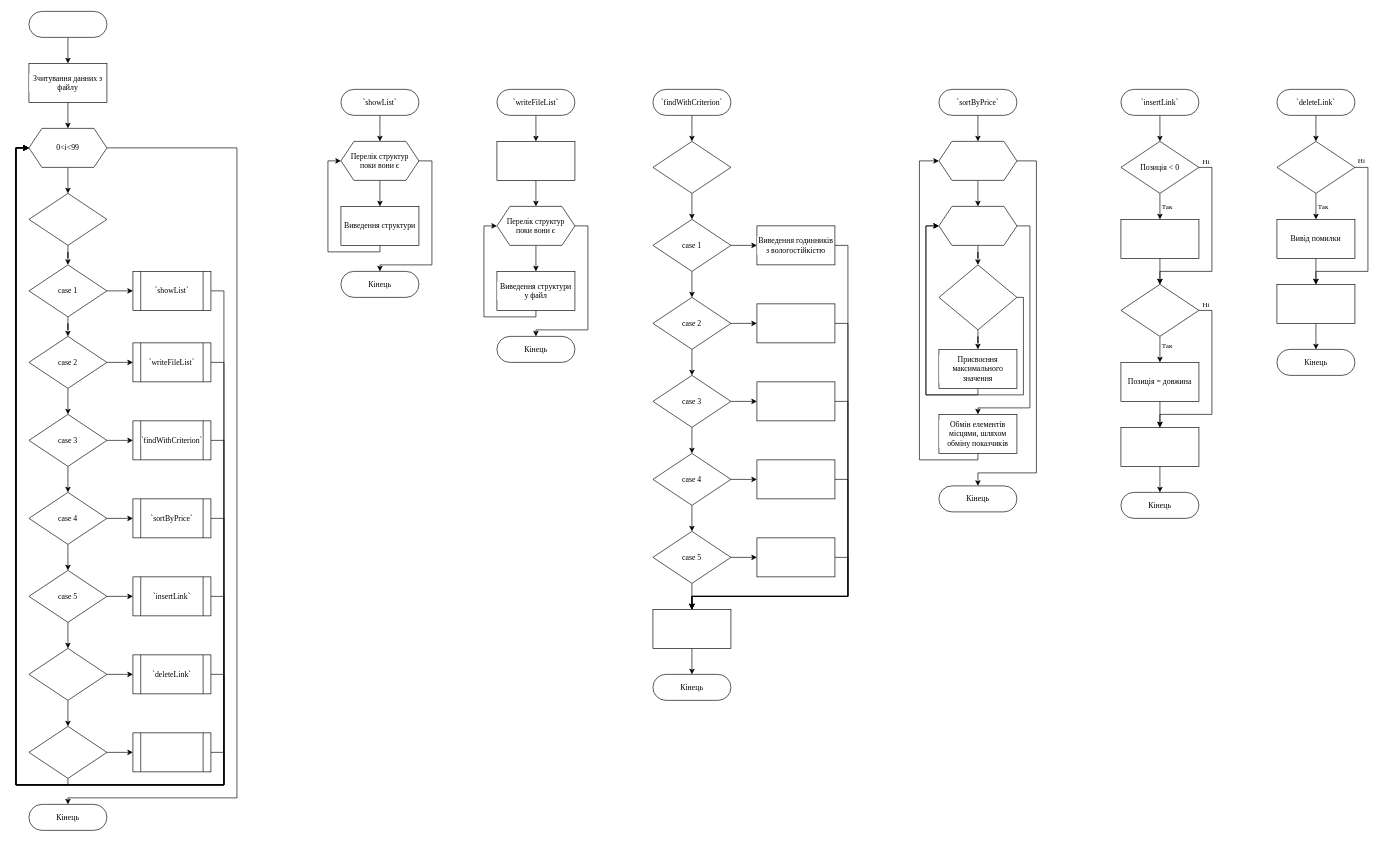
Image size: 1385x842. Some labels were removed from this diagram. The centre of each missing label's shape, as x and y in pixels:
case 6: pixel 67 674
case 7: pixel 67 752
return 0 ;: pixel 171 752
switch (criterion): pixel 691 167
switch(item): pixel 67 219
while (set != list-> head ): pixel 977 160
while (temp != set-> next ): pixel 977 225
Виведення годинників з певної країни: pixel 795 479
Виведення годинників з ціною нижче заданої: pixel 795 323
Виведення годинників певного стилю: pixel 795 557
Виведення годинників первної фірми: pixel 795 401
Виведення результату: pixel 691 628
Видалення елементу зі списку: pixel 1315 303
Вставка елементу до списку: pixel 1159 446
Відкриття файлу: pixel 535 160
Позиція = 0: pixel 1159 238
Позиція > довжини: pixel 1159 310
Порівняння з максимальним значенням, більше ніж максимальне?: pixel 977 297
Початок: pixel 67 24
Початок більший за кінець, або за довжину?: pixel 1315 167
